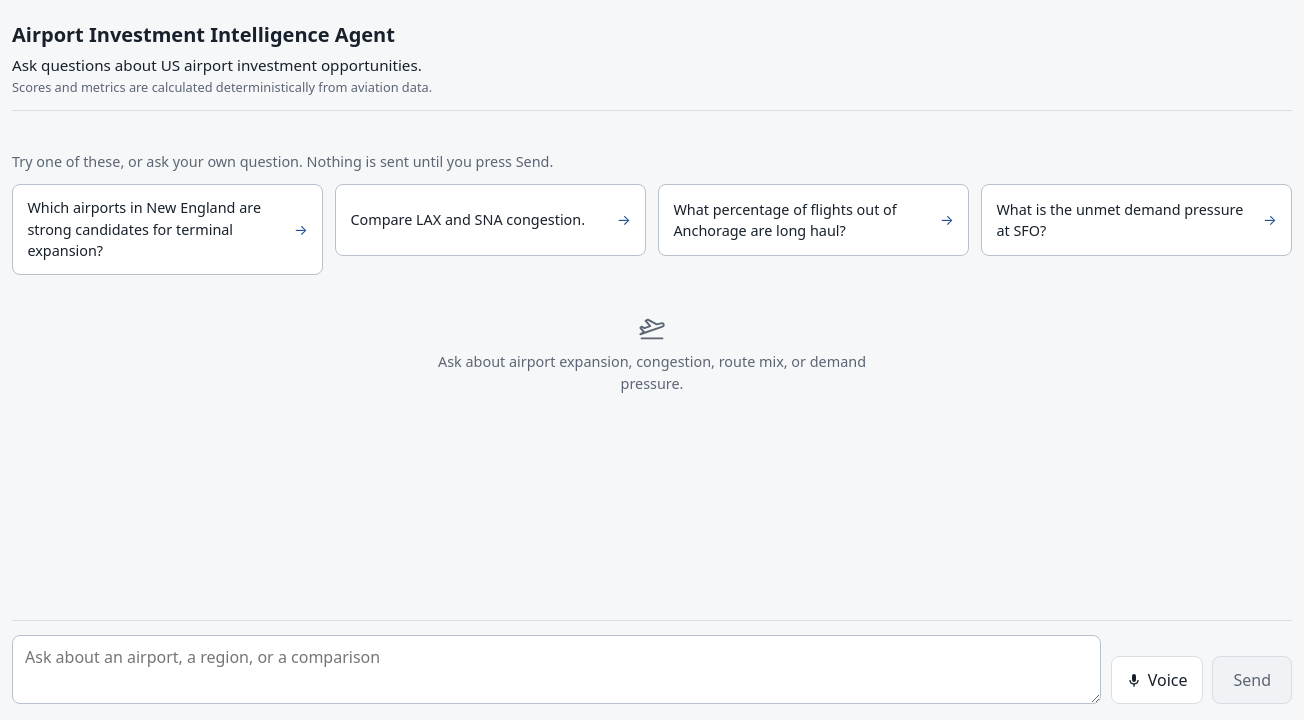
it: chat › prevents duplicate submissions while a request is active
Type "Hello" into the text box named "Your question" at (557, 669), box [12,635,1101,704]
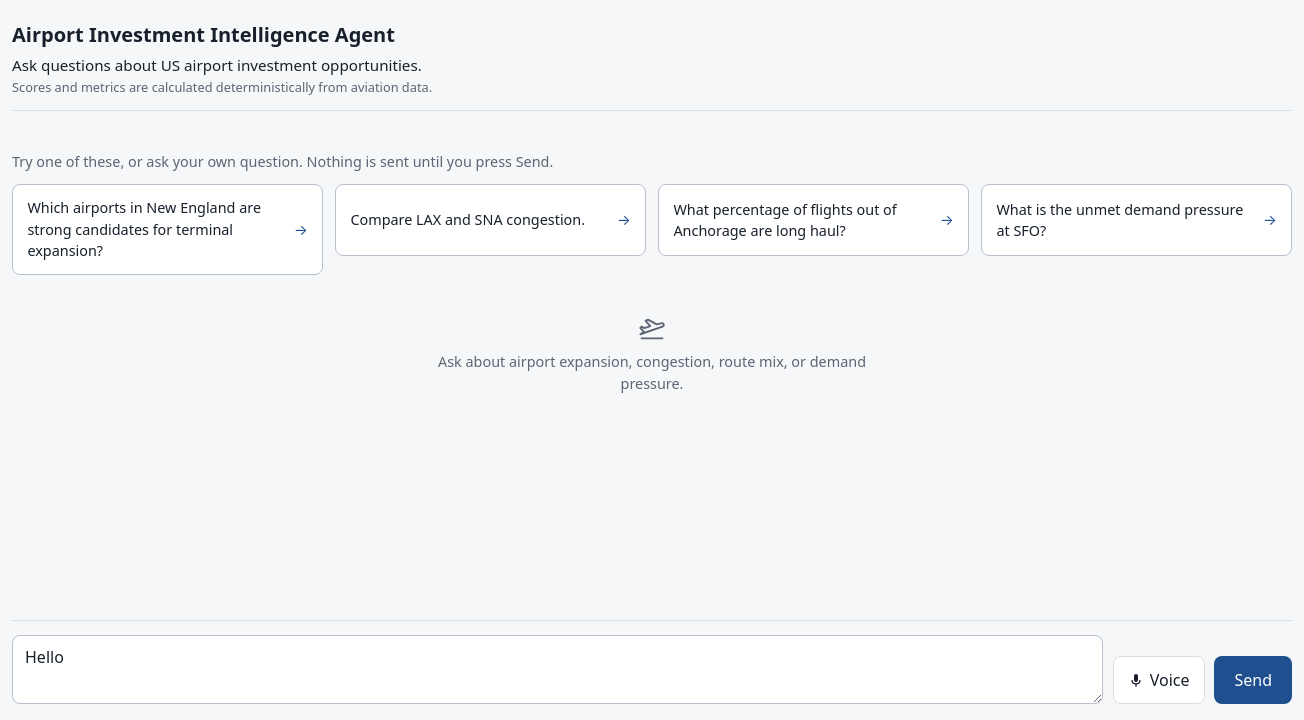
Click the button "Send" at (1253, 680), box [1214,656,1292,704]
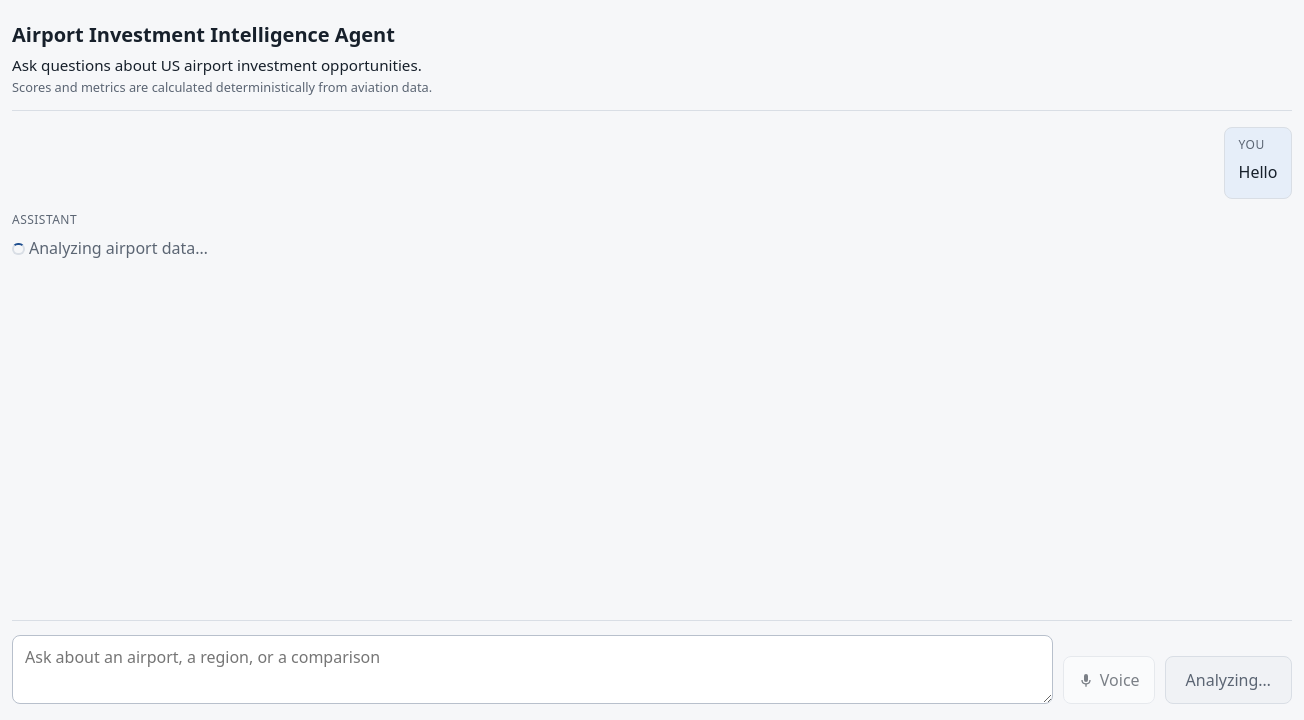
Expected: the message "Assistant Analyzing airport data…" is shown, [12,211,208,259]
Expected: the button "Analyzing…" is disabled, [1165,656,1292,704]
Submit the form named "Your question", box [12,620,1292,719]
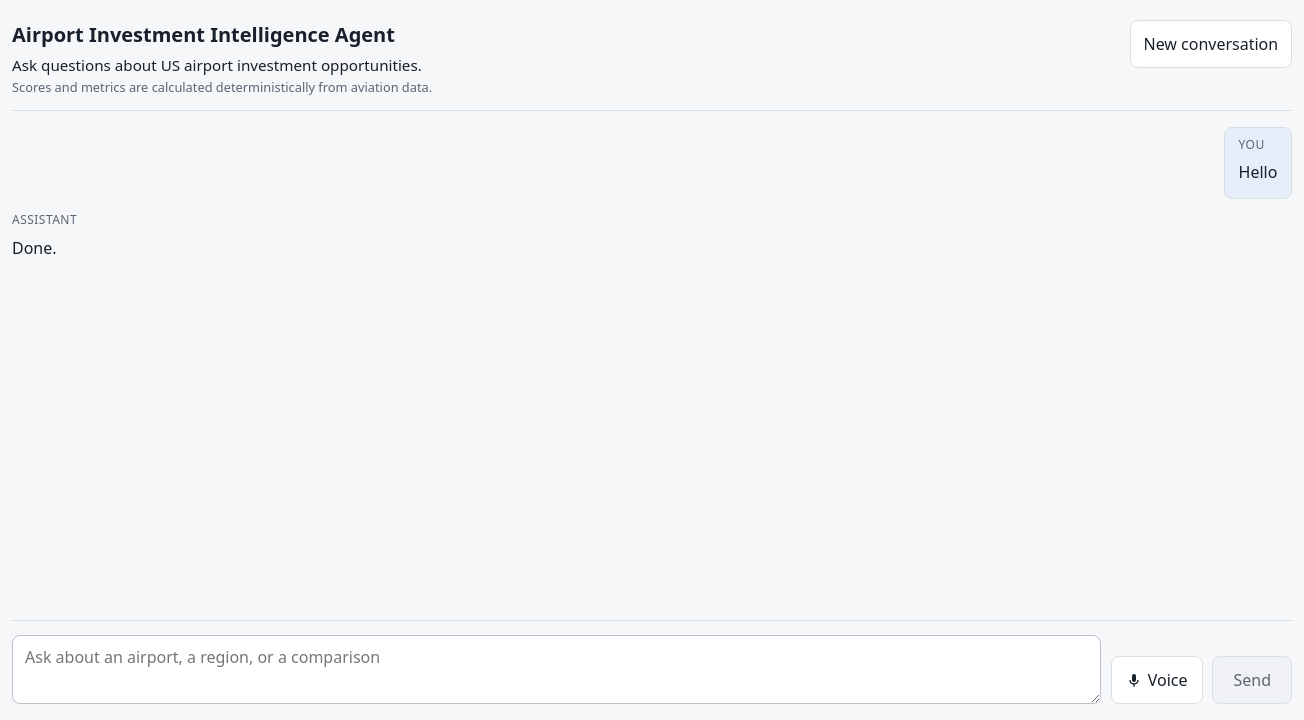
Expected: the text "Done." is shown, [12,237,57,259]
